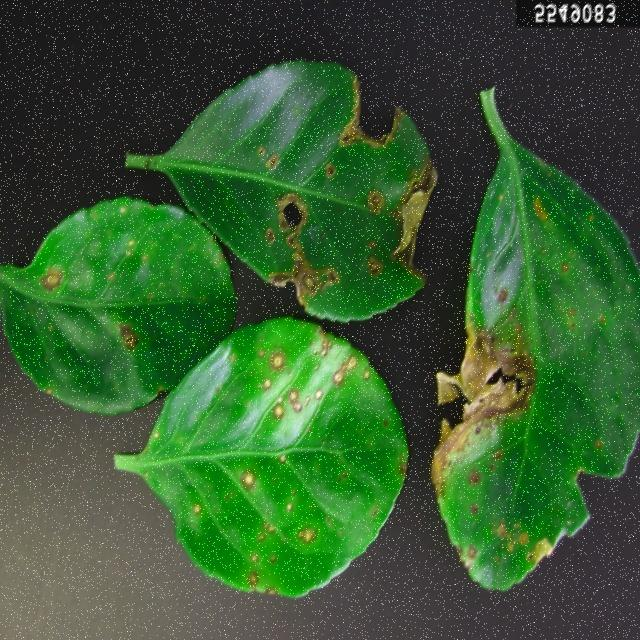leaf_spot: (108, 314, 414, 612)
shot_hole: (153, 26, 456, 300)
